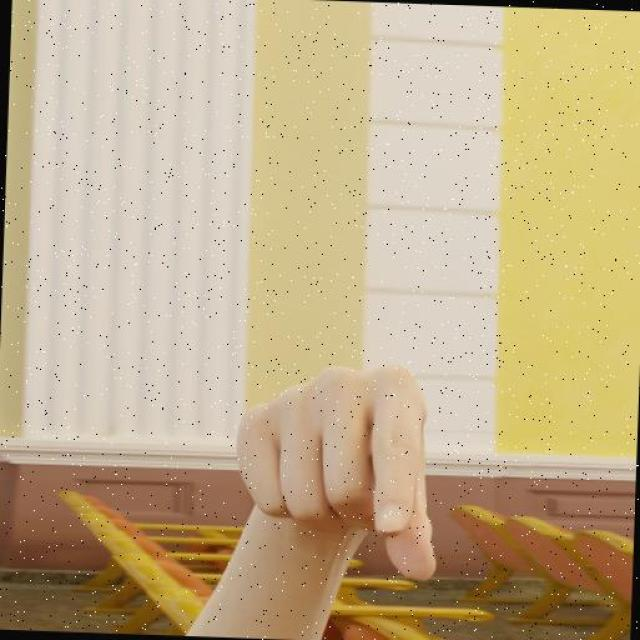P: (230, 358, 444, 587)
